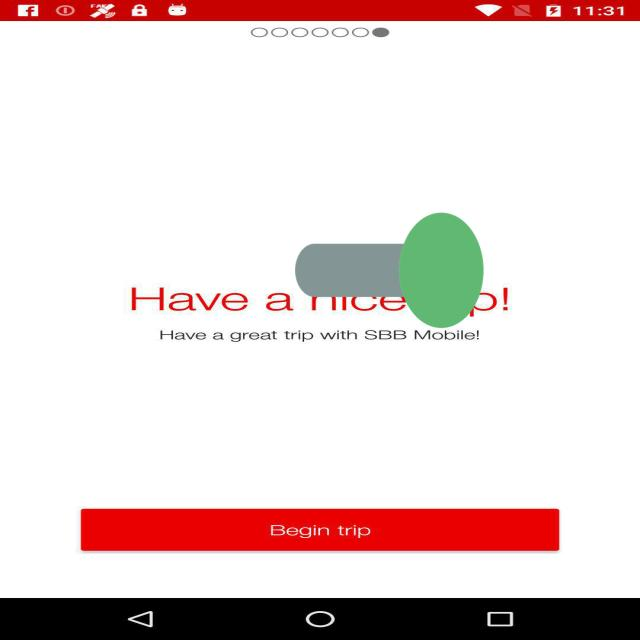social proof: (295, 142, 484, 399)
